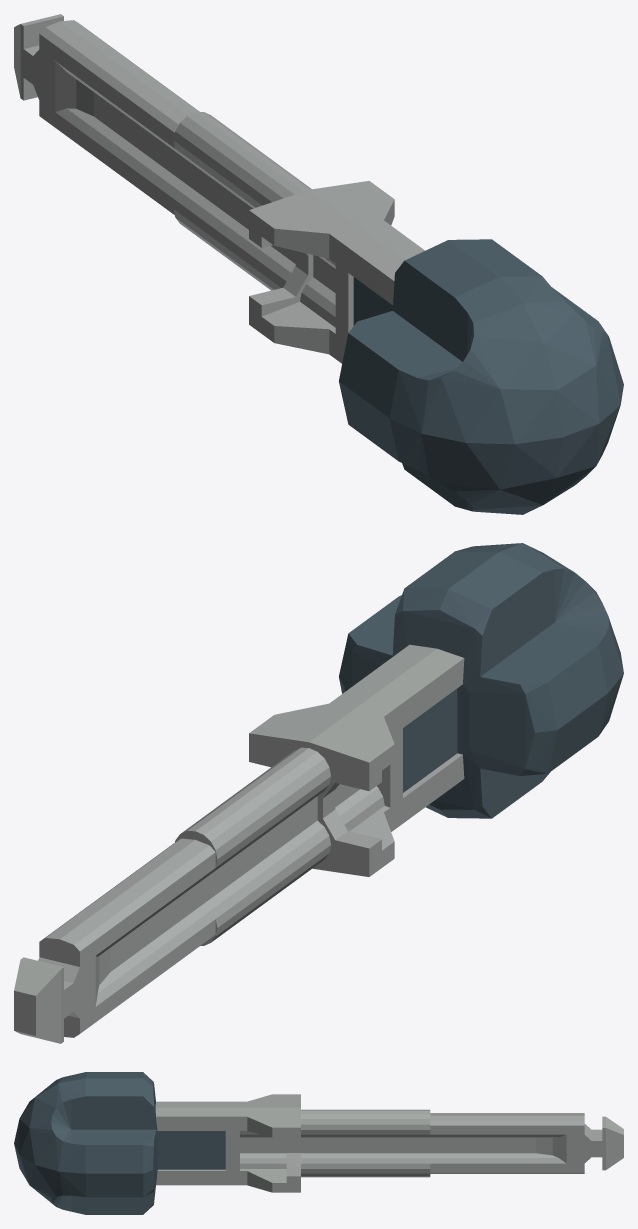
The picture shows the model from 3 angles, top to bottom: view 1: azimuth 30°, elevation 25°; view 2: azimuth 150°, elevation 25°; view 3: azimuth 270°, elevation 25°; orthographic projection. The views are drawn at different scales.
Parts seen in each view (by area): view 1: world; view 2: world; view 3: world.
Part boxes in pixels (box(x1,y1,x2,y2)): world: box(14, 14, 623, 514); world: box(14, 543, 623, 1043); world: box(14, 1072, 623, 1214).
Bounding box in the file's own units: 0.016 × 0.016 × 0.068.
